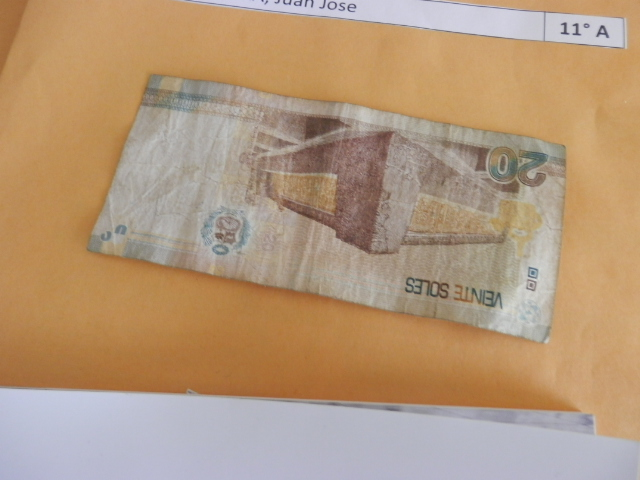B20: (86, 72, 560, 354)
